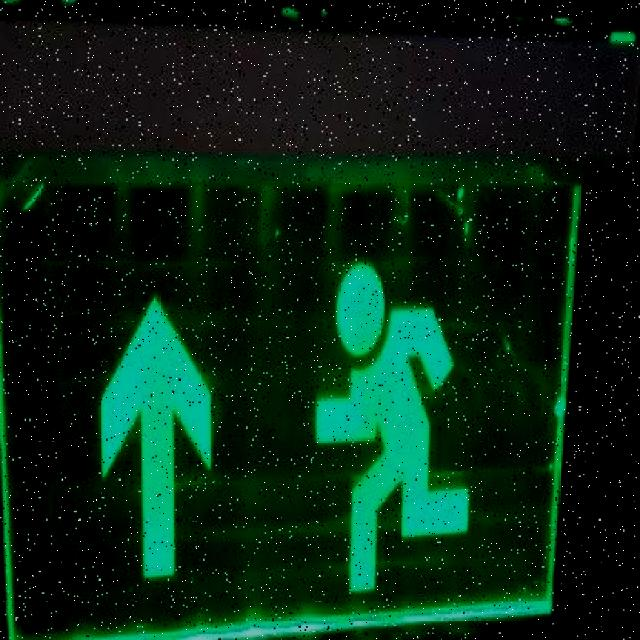emergency_exit: (1, 149, 582, 637)
